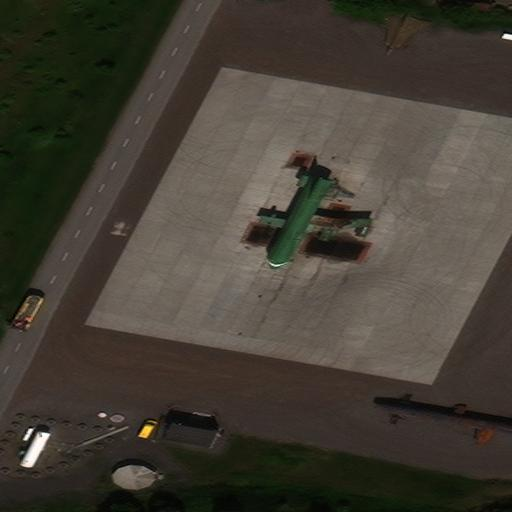Military Fighter: (377, 11, 431, 55)
